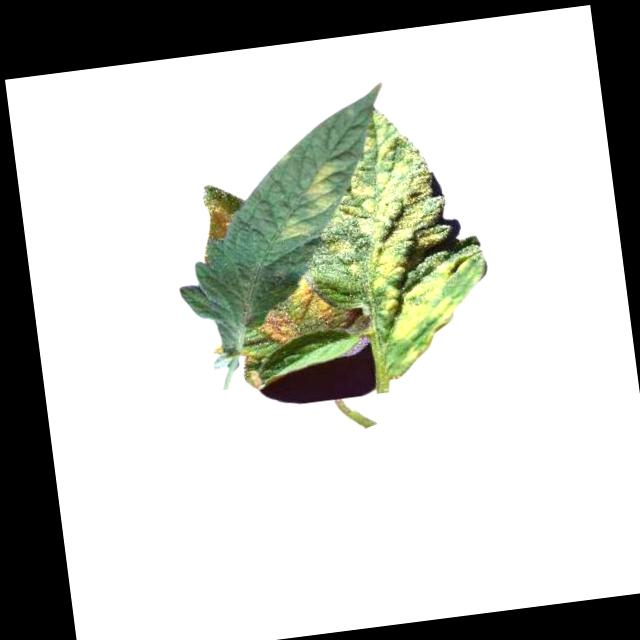Leaf_Mold: (315, 100, 496, 387), (256, 272, 365, 349), (304, 156, 341, 208), (270, 212, 326, 242), (203, 197, 237, 240)
